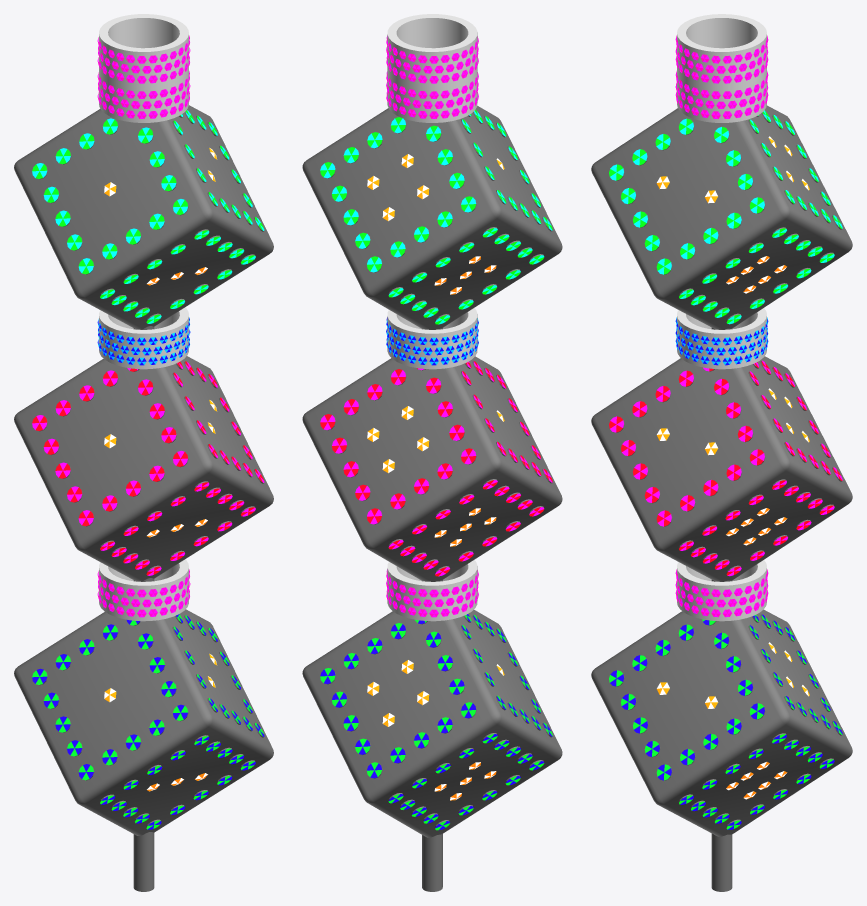
The model's file is DancerCubeTower.glb.
3 renders of one model, left to right at view 1: azimuth 30°, elevation 25°; view 2: azimuth 150°, elevation 25°; view 3: azimuth 270°, elevation 25°, orthographic.
Visible parts, largest first — view 1: Cylinder; view 2: Cylinder; view 3: Cylinder.
Part boxes in pixels (left/top/right/bottom): Cylinder: left=14, top=14, right=273, bottom=891; Cylinder: left=302, top=14, right=562, bottom=891; Cylinder: left=591, top=14, right=852, bottom=891.
Bounding box in the file's own units: 1.24 × 5.11 × 1.42.
